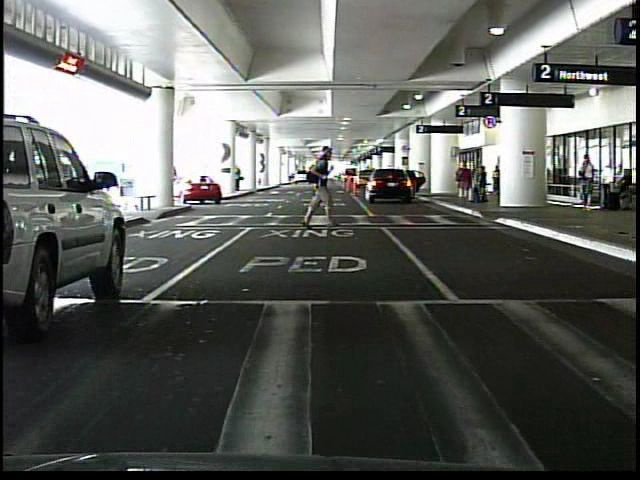person: (293, 147, 339, 228), (454, 159, 475, 201), (578, 156, 593, 212), (475, 166, 488, 201), (490, 165, 501, 194), (234, 164, 243, 190)
